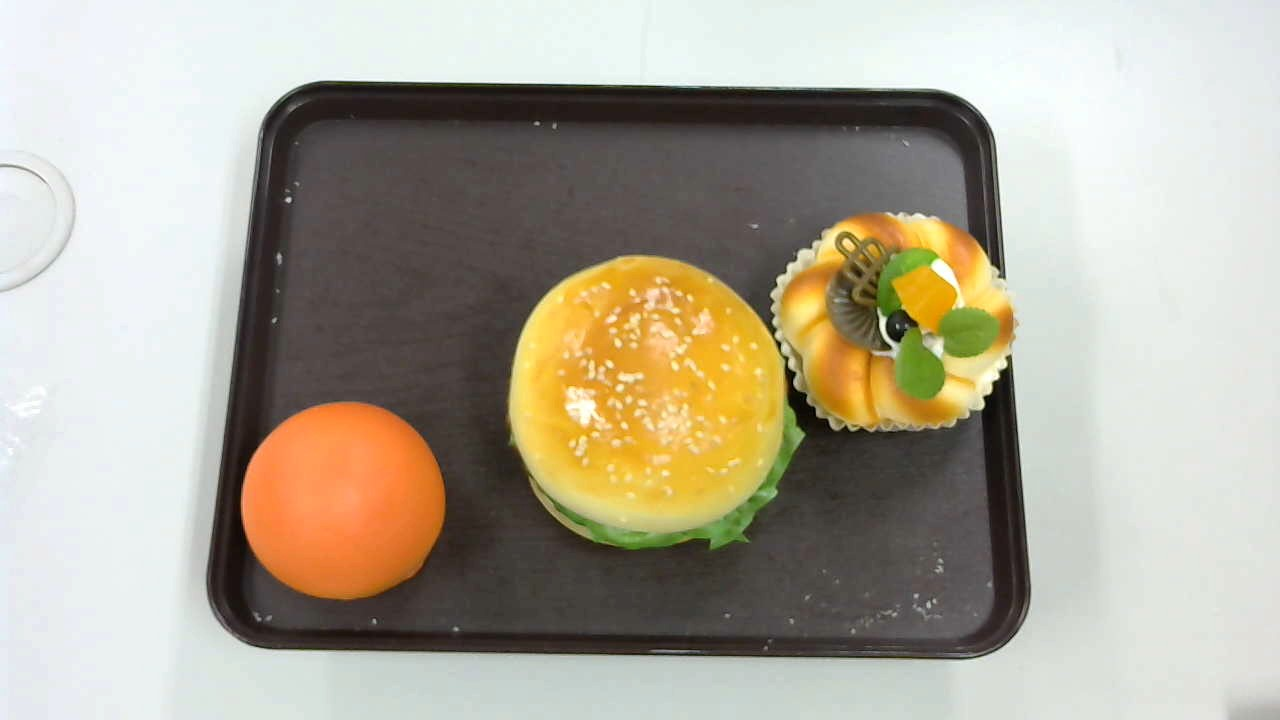bun: (240, 400, 446, 604)
fruit tart: (770, 212, 1019, 436)
hamburger: (506, 254, 806, 555)
